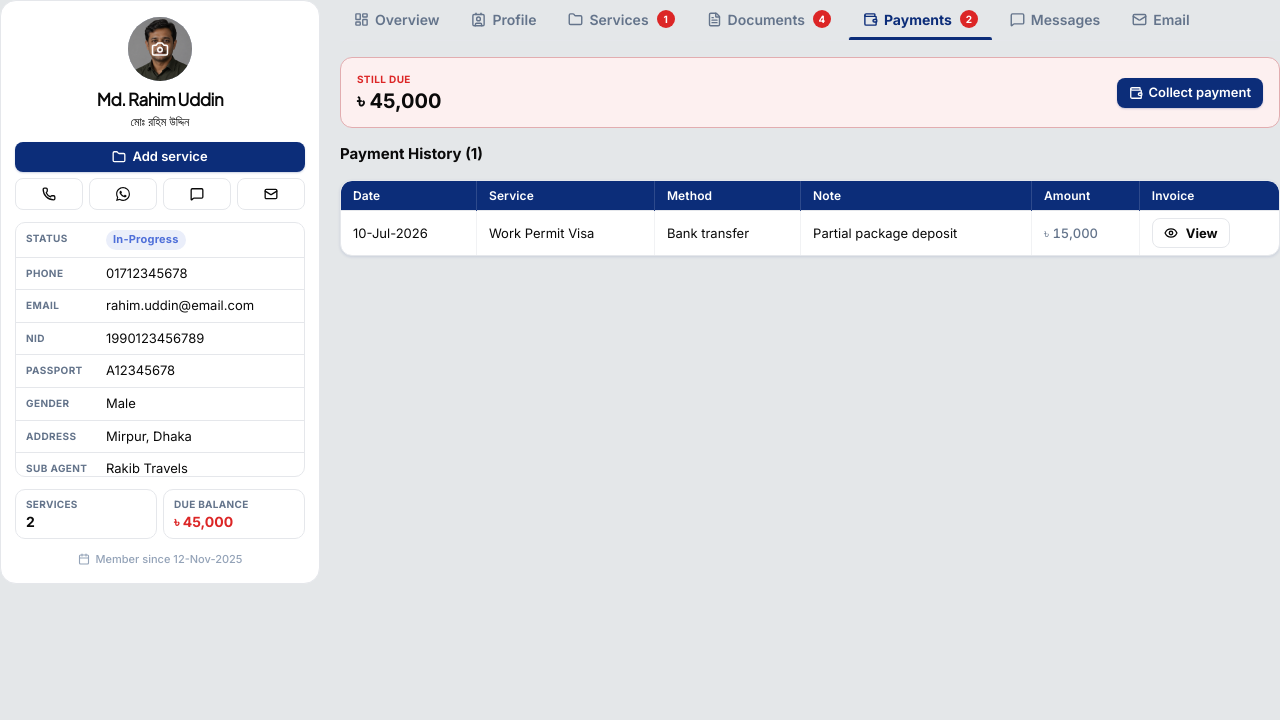
Scenario: client overview › opens collect-payment in a side drawer from the payments banner
Expected: the heading "Payment History (1)" is shown, [340,144,483,164]
What coordinates should you click on to do the following:
click the button "Collect payment"
I would click on:
 (1190, 92)
Its box is [1116,78,1263,108].
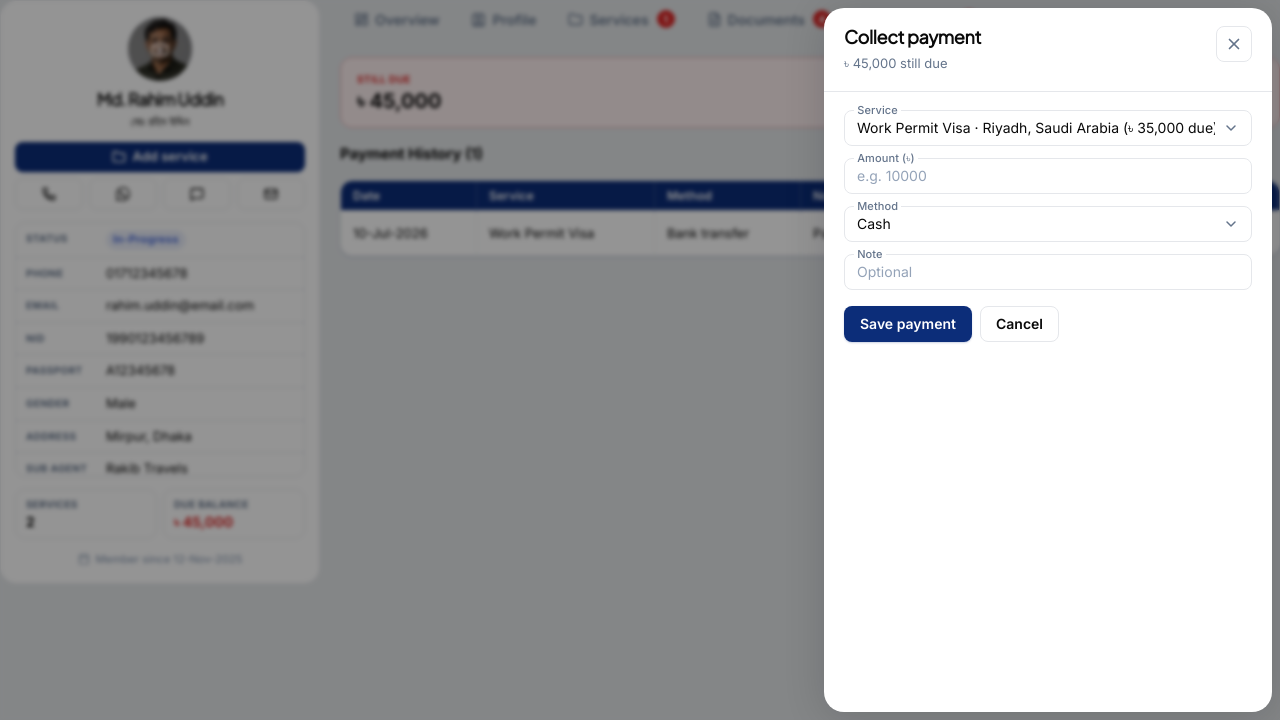
Expected: the dialog "Collect payment" is shown, [824,8,1272,712]
Expected: the field labelled "Amount (৳)" is shown, [844,158,1252,194]
Expected: the button "Save payment" is shown, [844,306,972,342]
